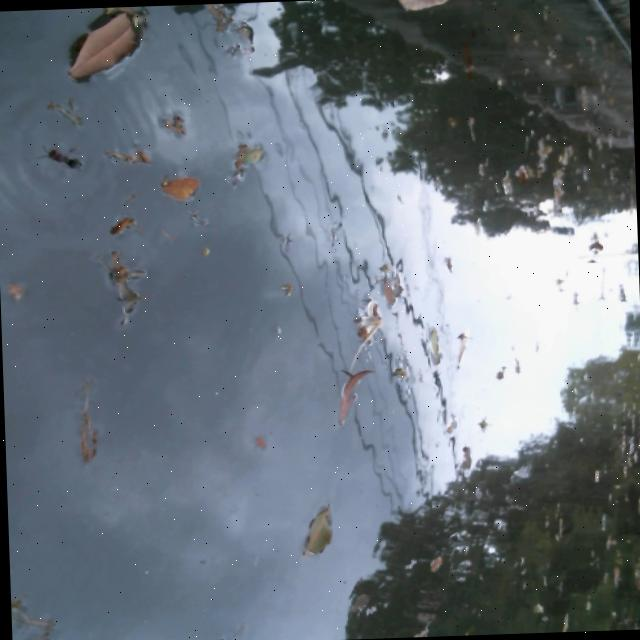Big-leaf: (393, 0, 453, 20)
Small-leaf: (44, 5, 171, 74), (286, 500, 352, 581), (323, 353, 383, 430), (65, 411, 114, 467), (157, 165, 225, 204), (103, 253, 146, 314)
